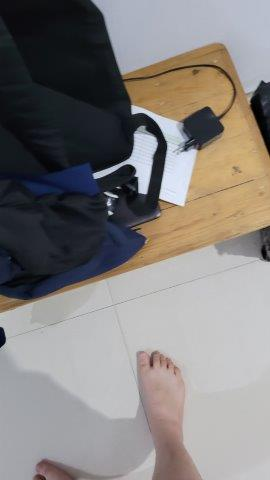kertas: (85, 105, 199, 209)
